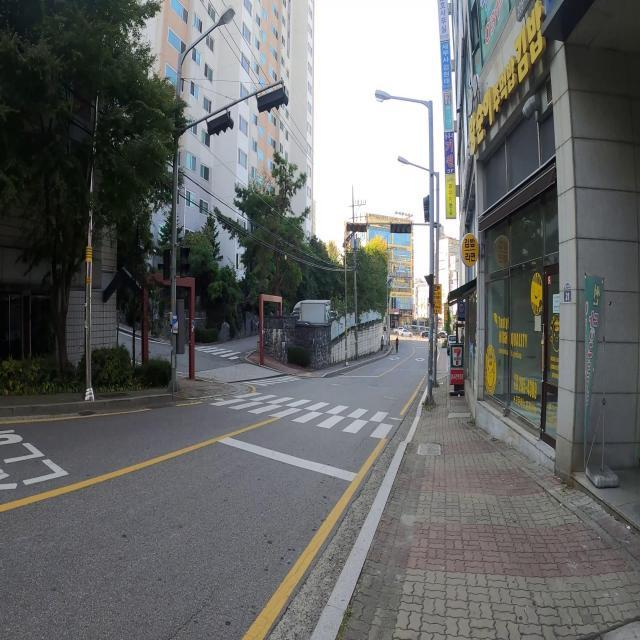crosswalk: (207, 389, 408, 440), (194, 346, 245, 361), (242, 375, 303, 387)
